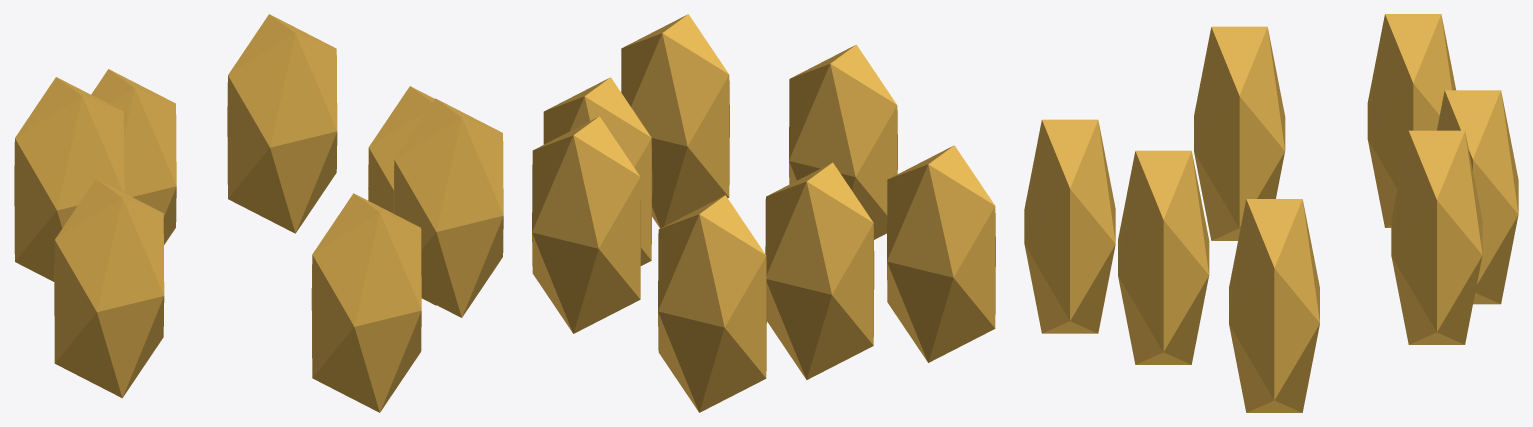
The model's file is wheat_seeds.glb.
The picture shows the model from 3 angles, left to right: view 1: azimuth 30°, elevation 25°; view 2: azimuth 150°, elevation 25°; view 3: azimuth 270°, elevation 25°; orthographic projection. The views are drawn at different scales.
Parts seen in each view (by area): view 1: wheat_seeds_Mesh; view 2: wheat_seeds_Mesh; view 3: wheat_seeds_Mesh.
Boxes of the visible parts, left/top/right/bottom form: wheat_seeds_Mesh: left=14, top=14, right=503, bottom=412; wheat_seeds_Mesh: left=532, top=14, right=995, bottom=412; wheat_seeds_Mesh: left=1024, top=14, right=1518, bottom=412.
Bounding box in the file's own units: 0.1716 × 0.0869 × 0.1566.
